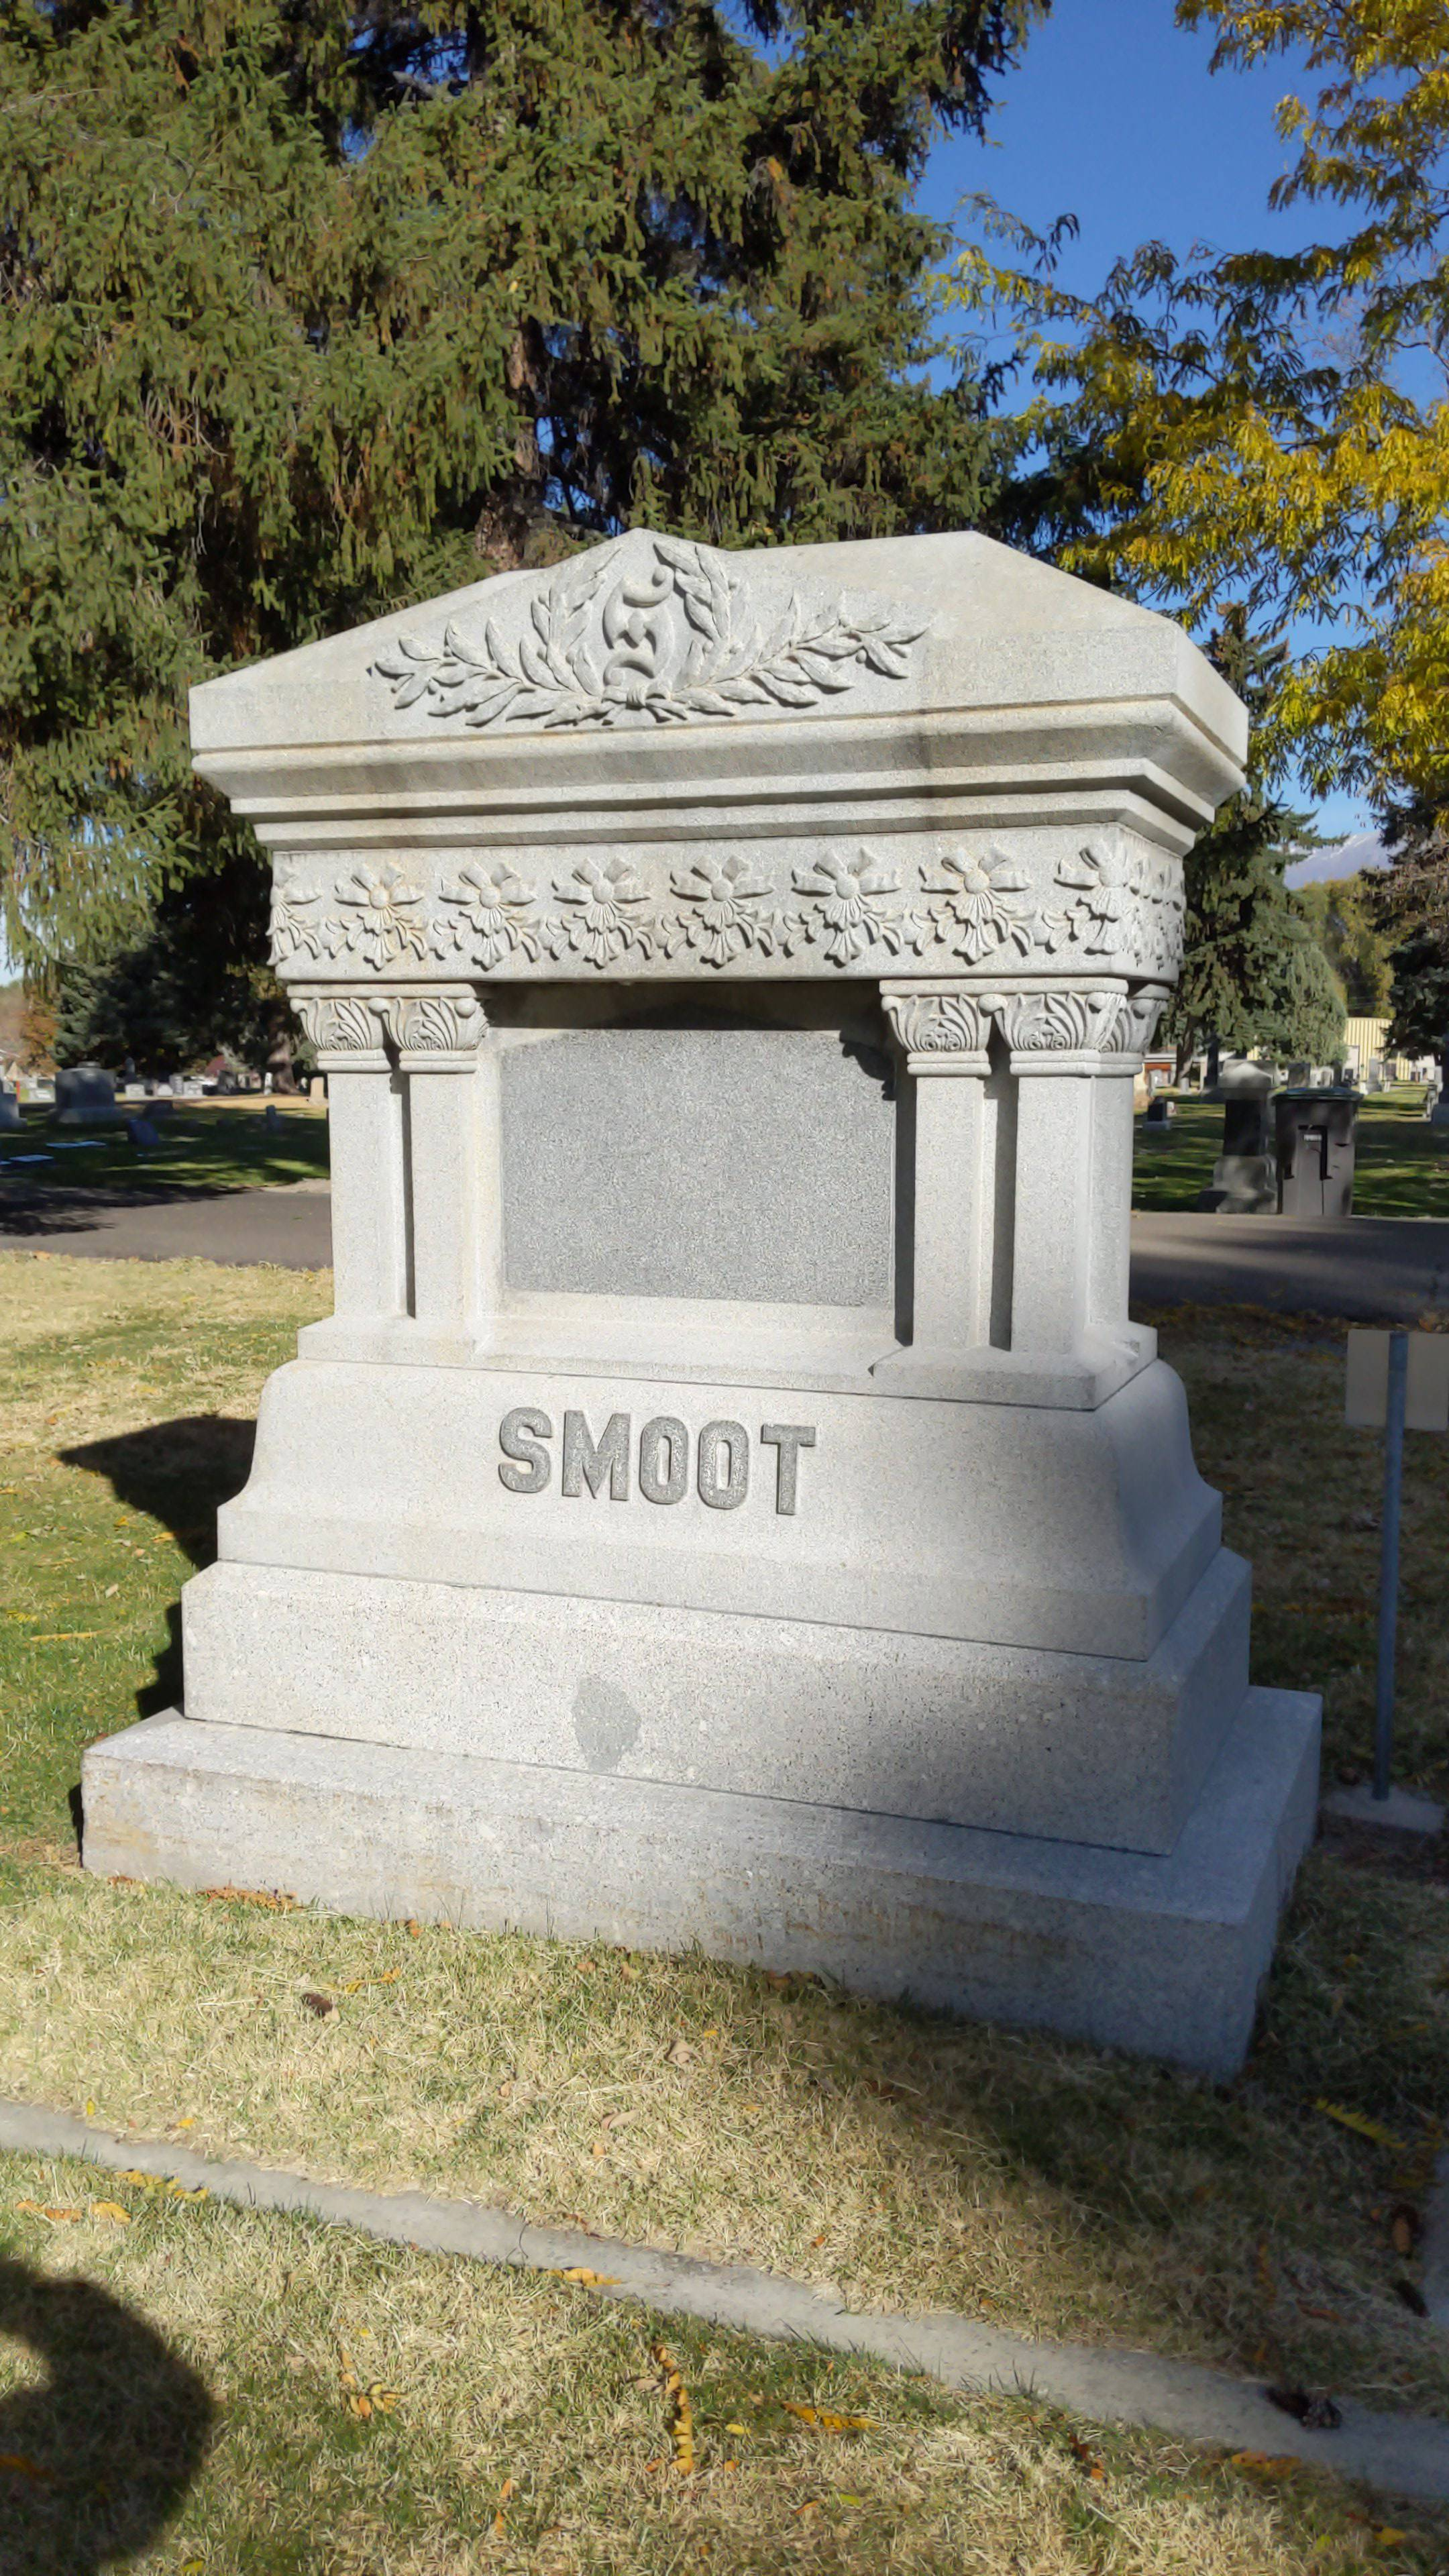mausoleum: (85, 533, 1316, 2066)
